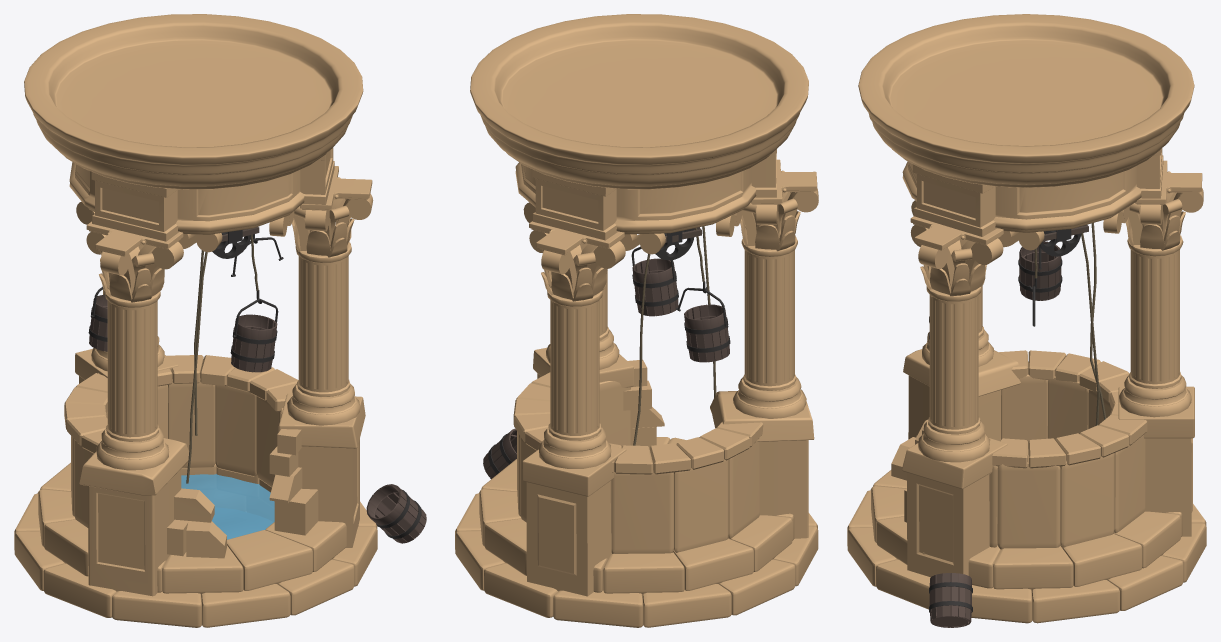
Rendered from WELL.fbx.
The picture shows the model from 3 angles, left to right: view 1: azimuth 30°, elevation 25°; view 2: azimuth 150°, elevation 25°; view 3: azimuth 270°, elevation 25°; orthographic projection.
Visible parts, largest first — view 1: pCylinder18, pCube144, pCube143, pCube28, pCylinder83, pCylinder50, pCylinder17, pCube35, pCube36, pCube179, polySurface71, polySurface64 (+32 smaller); view 2: pCylinder18, pCube144, pCube143, pCube2, pCylinder50, pCylinder72, pCylinder17, polySurface65, polySurface68, pCube52, pCube28, polySurface66 (+28 smaller); view 3: pCylinder18, pCube144, pCube143, pCube36, pCylinder72, pCylinder83, pCylinder17, polySurface62, polySurface71, pCube58, pCube2, polySurface66 (+33 smaller).
Part boxes in pixels (bbox=[...]): pCylinder18: bbox=[24, 14, 363, 189]; pCube144: bbox=[14, 491, 377, 627]; pCube143: bbox=[38, 462, 346, 593]; pCube28: bbox=[88, 470, 180, 596]; pCylinder83: bbox=[295, 242, 351, 396]; pCylinder50: bbox=[104, 289, 160, 441]; pCylinder17: bbox=[69, 162, 304, 234]; pCube35: bbox=[91, 172, 179, 241]; pCube36: bbox=[298, 439, 359, 547]; pCube179: bbox=[181, 474, 274, 539]; polySurface71: bbox=[215, 385, 256, 476]; polySurface64: bbox=[168, 378, 215, 468]; pCylinder18: bbox=[470, 14, 808, 189]; pCube144: bbox=[455, 492, 818, 627]; pCube143: bbox=[479, 437, 794, 593]; pCube2: bbox=[526, 481, 611, 596]; pCylinder50: bbox=[741, 230, 797, 390]; pCylinder72: bbox=[547, 288, 602, 440]; pCylinder17: bbox=[515, 162, 756, 234]; polySurface65: bbox=[611, 470, 673, 553]; polySurface68: bbox=[674, 459, 728, 552]; pCube52: bbox=[532, 169, 618, 240]; pCube28: bbox=[760, 440, 808, 538]; polySurface66: bbox=[728, 440, 759, 538]; pCylinder18: bbox=[858, 14, 1194, 187]; pCube144: bbox=[847, 488, 1206, 623]; pCube143: bbox=[871, 470, 1182, 589]; pCube36: bbox=[907, 472, 989, 577]; pCylinder72: bbox=[1127, 230, 1183, 388]; pCylinder83: bbox=[926, 286, 981, 434]; pCylinder17: bbox=[902, 161, 1141, 232]; polySurface62: bbox=[997, 449, 1060, 549]; polySurface71: bbox=[1060, 453, 1114, 547]; pCube58: bbox=[913, 164, 997, 236]; pCube2: bbox=[1145, 438, 1192, 536]; polySurface66: bbox=[1001, 362, 1048, 448].
Bounding box in the file's own units: 5.69 × 7.7 × 5.17.
